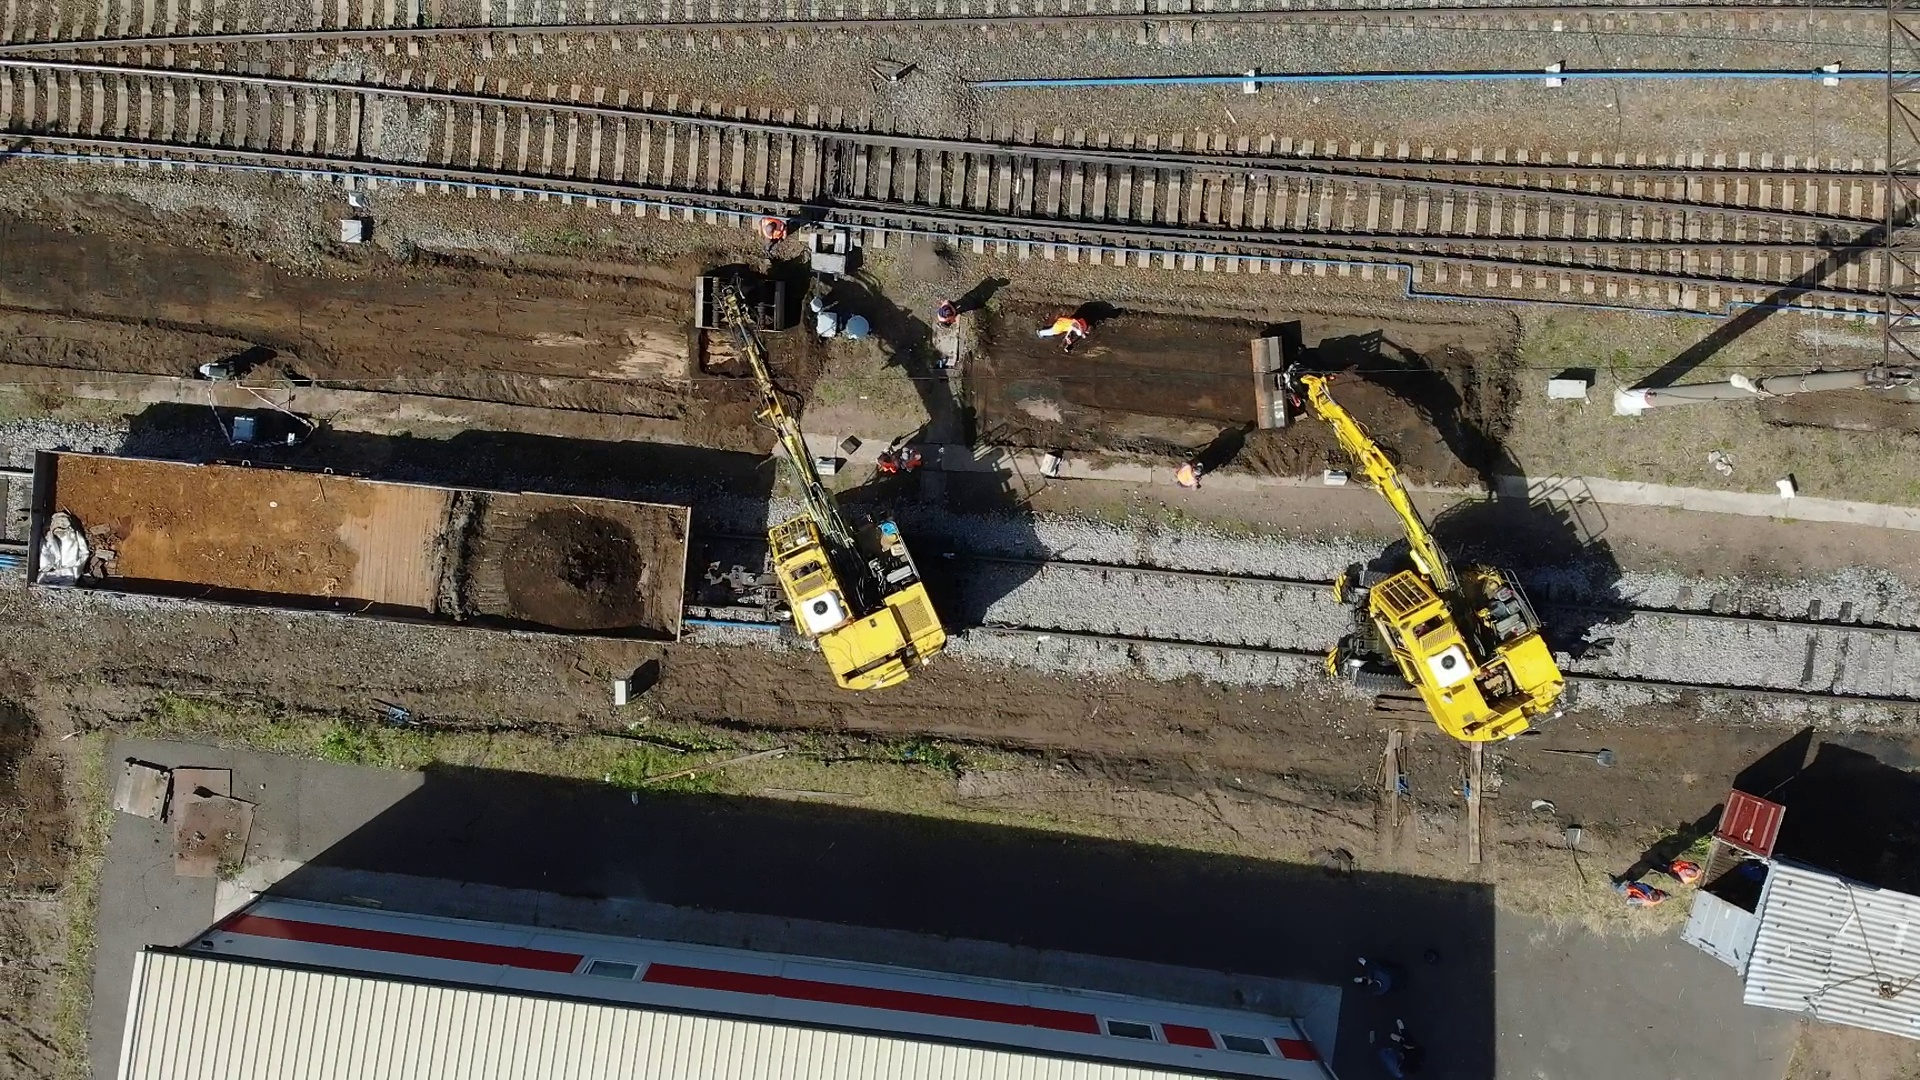kjtv: (1339, 489, 1565, 744), (765, 486, 942, 684)
